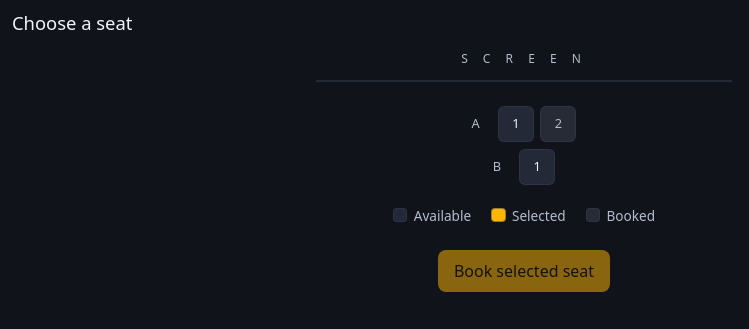
Test: SeatMap › groups seats by row and allows selecting an available seat
This screenshot has width=749, height=329.
Click the button named "row a, seat 1, available" at (516, 124), box [498,106,534,142]
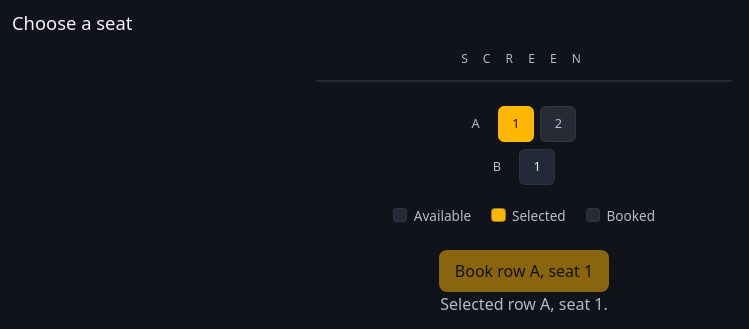
Check: the button "Book row A, seat 1" is shown, box [440,250,609,292]
